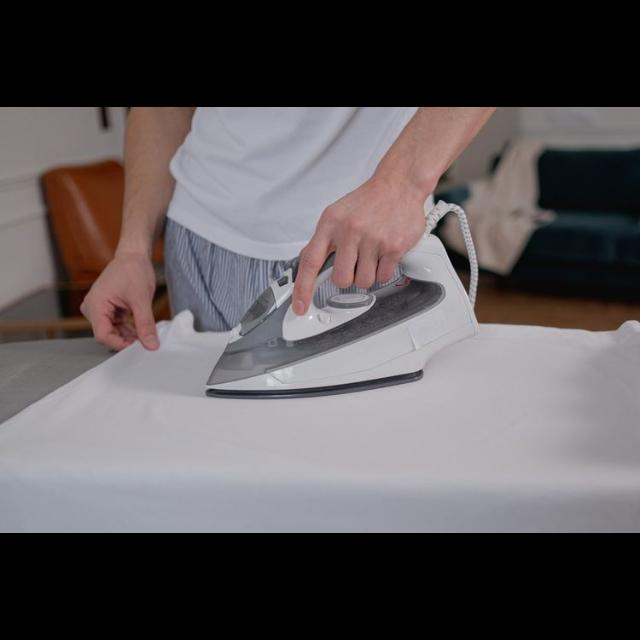Clothes-Iron: (252, 194, 464, 408)
